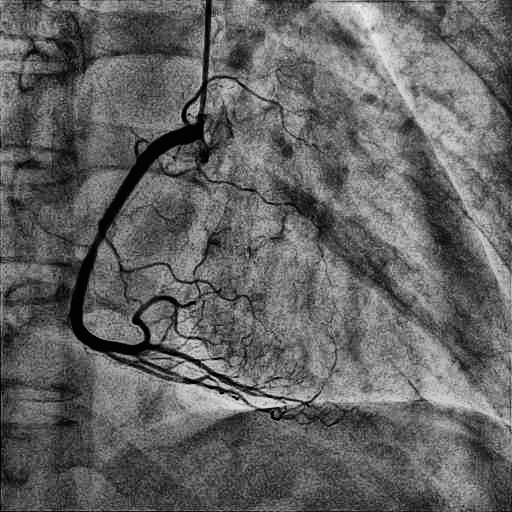pborca: (132, 342, 303, 402)
pda: (134, 353, 255, 409)
rca: (70, 125, 201, 355)
